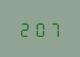seven: (47, 20, 60, 37)
two: (18, 20, 31, 37)
zero: (33, 20, 46, 37)
